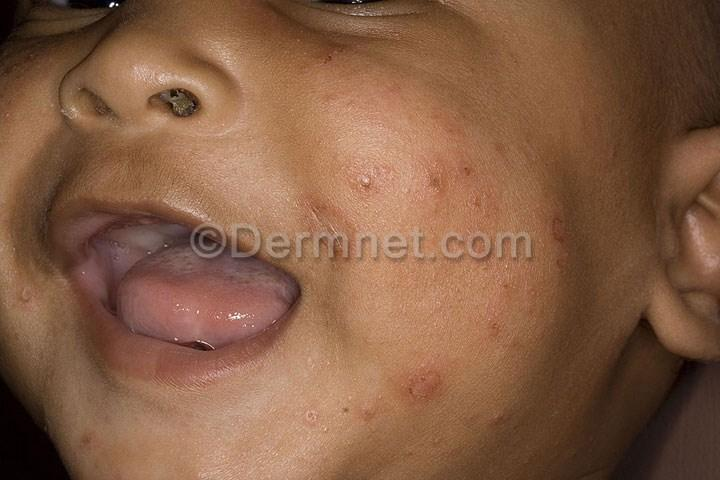edema 2: (346, 158, 576, 424), (0, 276, 43, 317)
